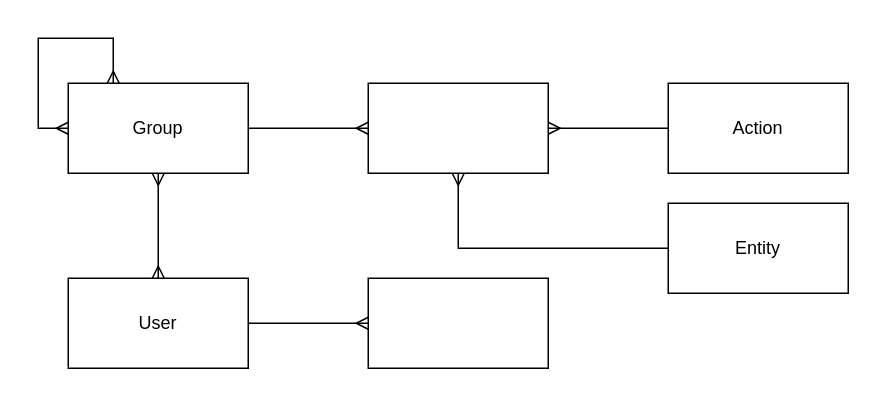
The diagram is 875 pixels wide and 395 high, and some of its shapes have lost their labels. Here are the shapes that lost their labels. From the top down, the centre of each, then its label:
At point 457,127: "Permission".
At point 457,322: "Session".
